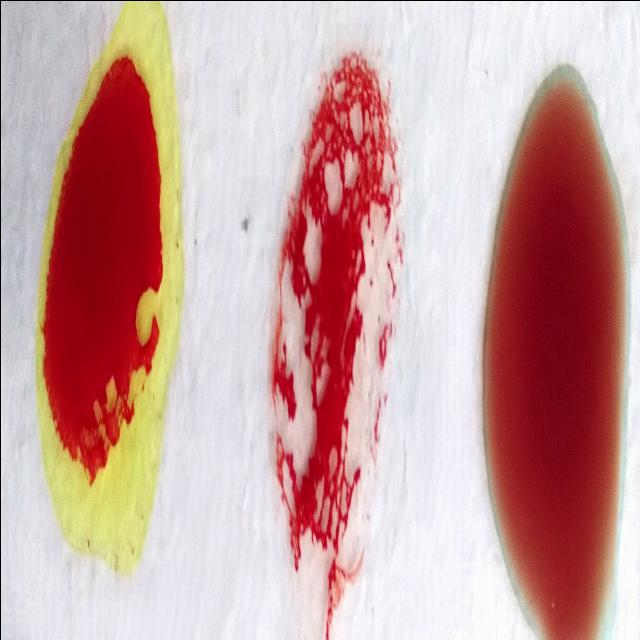B: (38, 0, 172, 561)
D: (271, 53, 391, 593)
